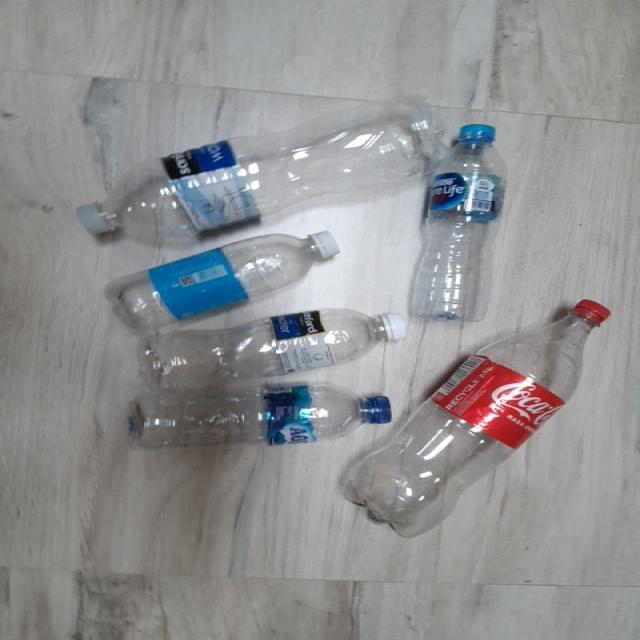PET Bottle: (356, 250, 608, 541), (72, 118, 432, 236), (402, 122, 504, 332), (110, 228, 348, 314), (130, 312, 411, 382), (132, 389, 396, 444)
